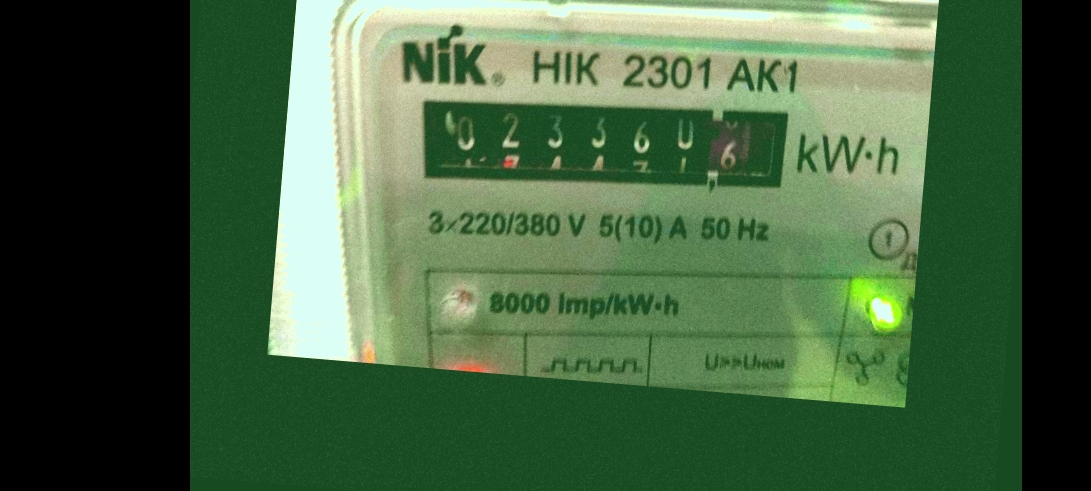0: (451, 110, 480, 154), (672, 113, 698, 152)
2: (496, 107, 525, 149)
3: (543, 109, 567, 151), (585, 111, 610, 150)
6: (627, 114, 656, 157), (718, 136, 742, 173)
screen: (394, 66, 804, 217)
